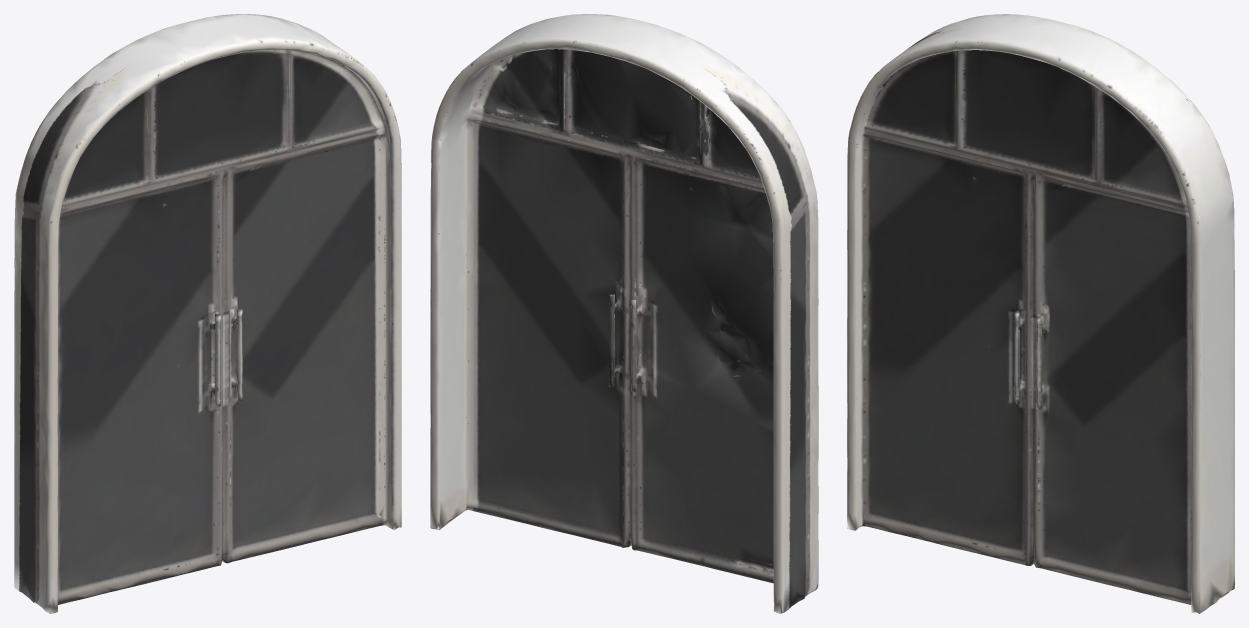
Rendered from Meshy_AI_Arched_Glass_Double_D_0303151428_texture.fbx.
3 renders of one model, left to right at view 1: azimuth 30°, elevation 25°; view 2: azimuth 150°, elevation 25°; view 3: azimuth 330°, elevation 25°, orthographic.
Parts seen in each view (by area): view 1: Mesh1.0; view 2: Mesh1.0; view 3: Mesh1.0.
Boxes of the visible parts, bbox=[...] form: Mesh1.0: bbox=[14, 14, 401, 613]; Mesh1.0: bbox=[430, 14, 818, 613]; Mesh1.0: bbox=[847, 14, 1234, 613].
Bounding box in the file's own units: 135 × 191 × 24.59.
1 material, 1 textured.
